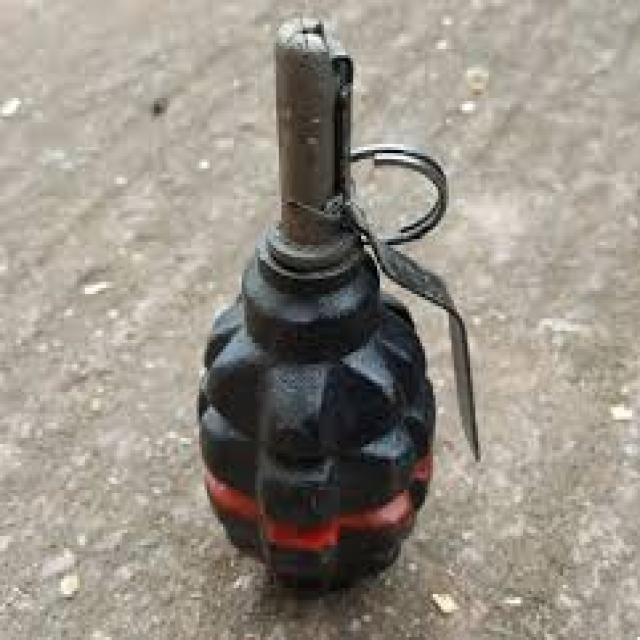grenade: (186, 18, 495, 588)
